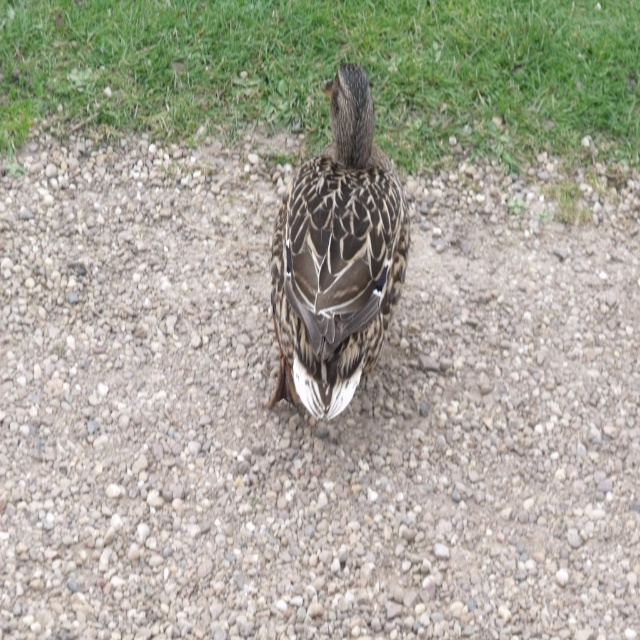Duck: (265, 66, 418, 419)
